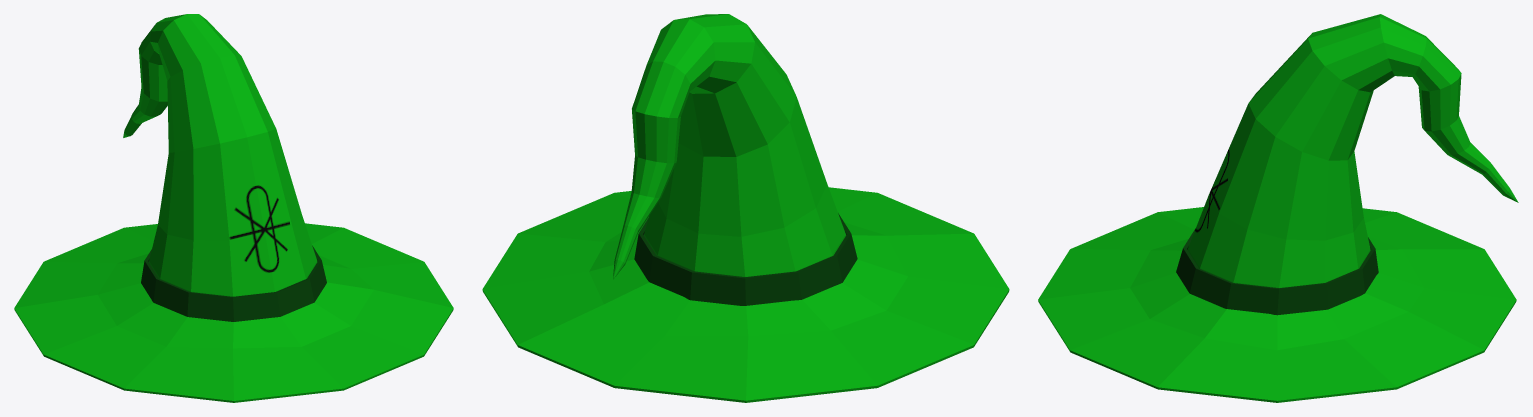
File: cultHat.fbx
3 renders of one model, left to right at view 1: azimuth 30°, elevation 25°; view 2: azimuth 150°, elevation 25°; view 3: azimuth 270°, elevation 25°, orthographic. The views are drawn at different scales.
Parts seen in each view (by area): view 1: wizard_hat:Mesh; view 2: wizard_hat:Mesh; view 3: wizard_hat:Mesh.
Part boxes in pixels (box(x1,y1,x2,y2)): wizard_hat:Mesh: box(14, 14, 453, 402); wizard_hat:Mesh: box(482, 14, 1009, 402); wizard_hat:Mesh: box(1038, 14, 1518, 402).
Bounding box in the file's own units: 5.11 × 3.36 × 5.13.
